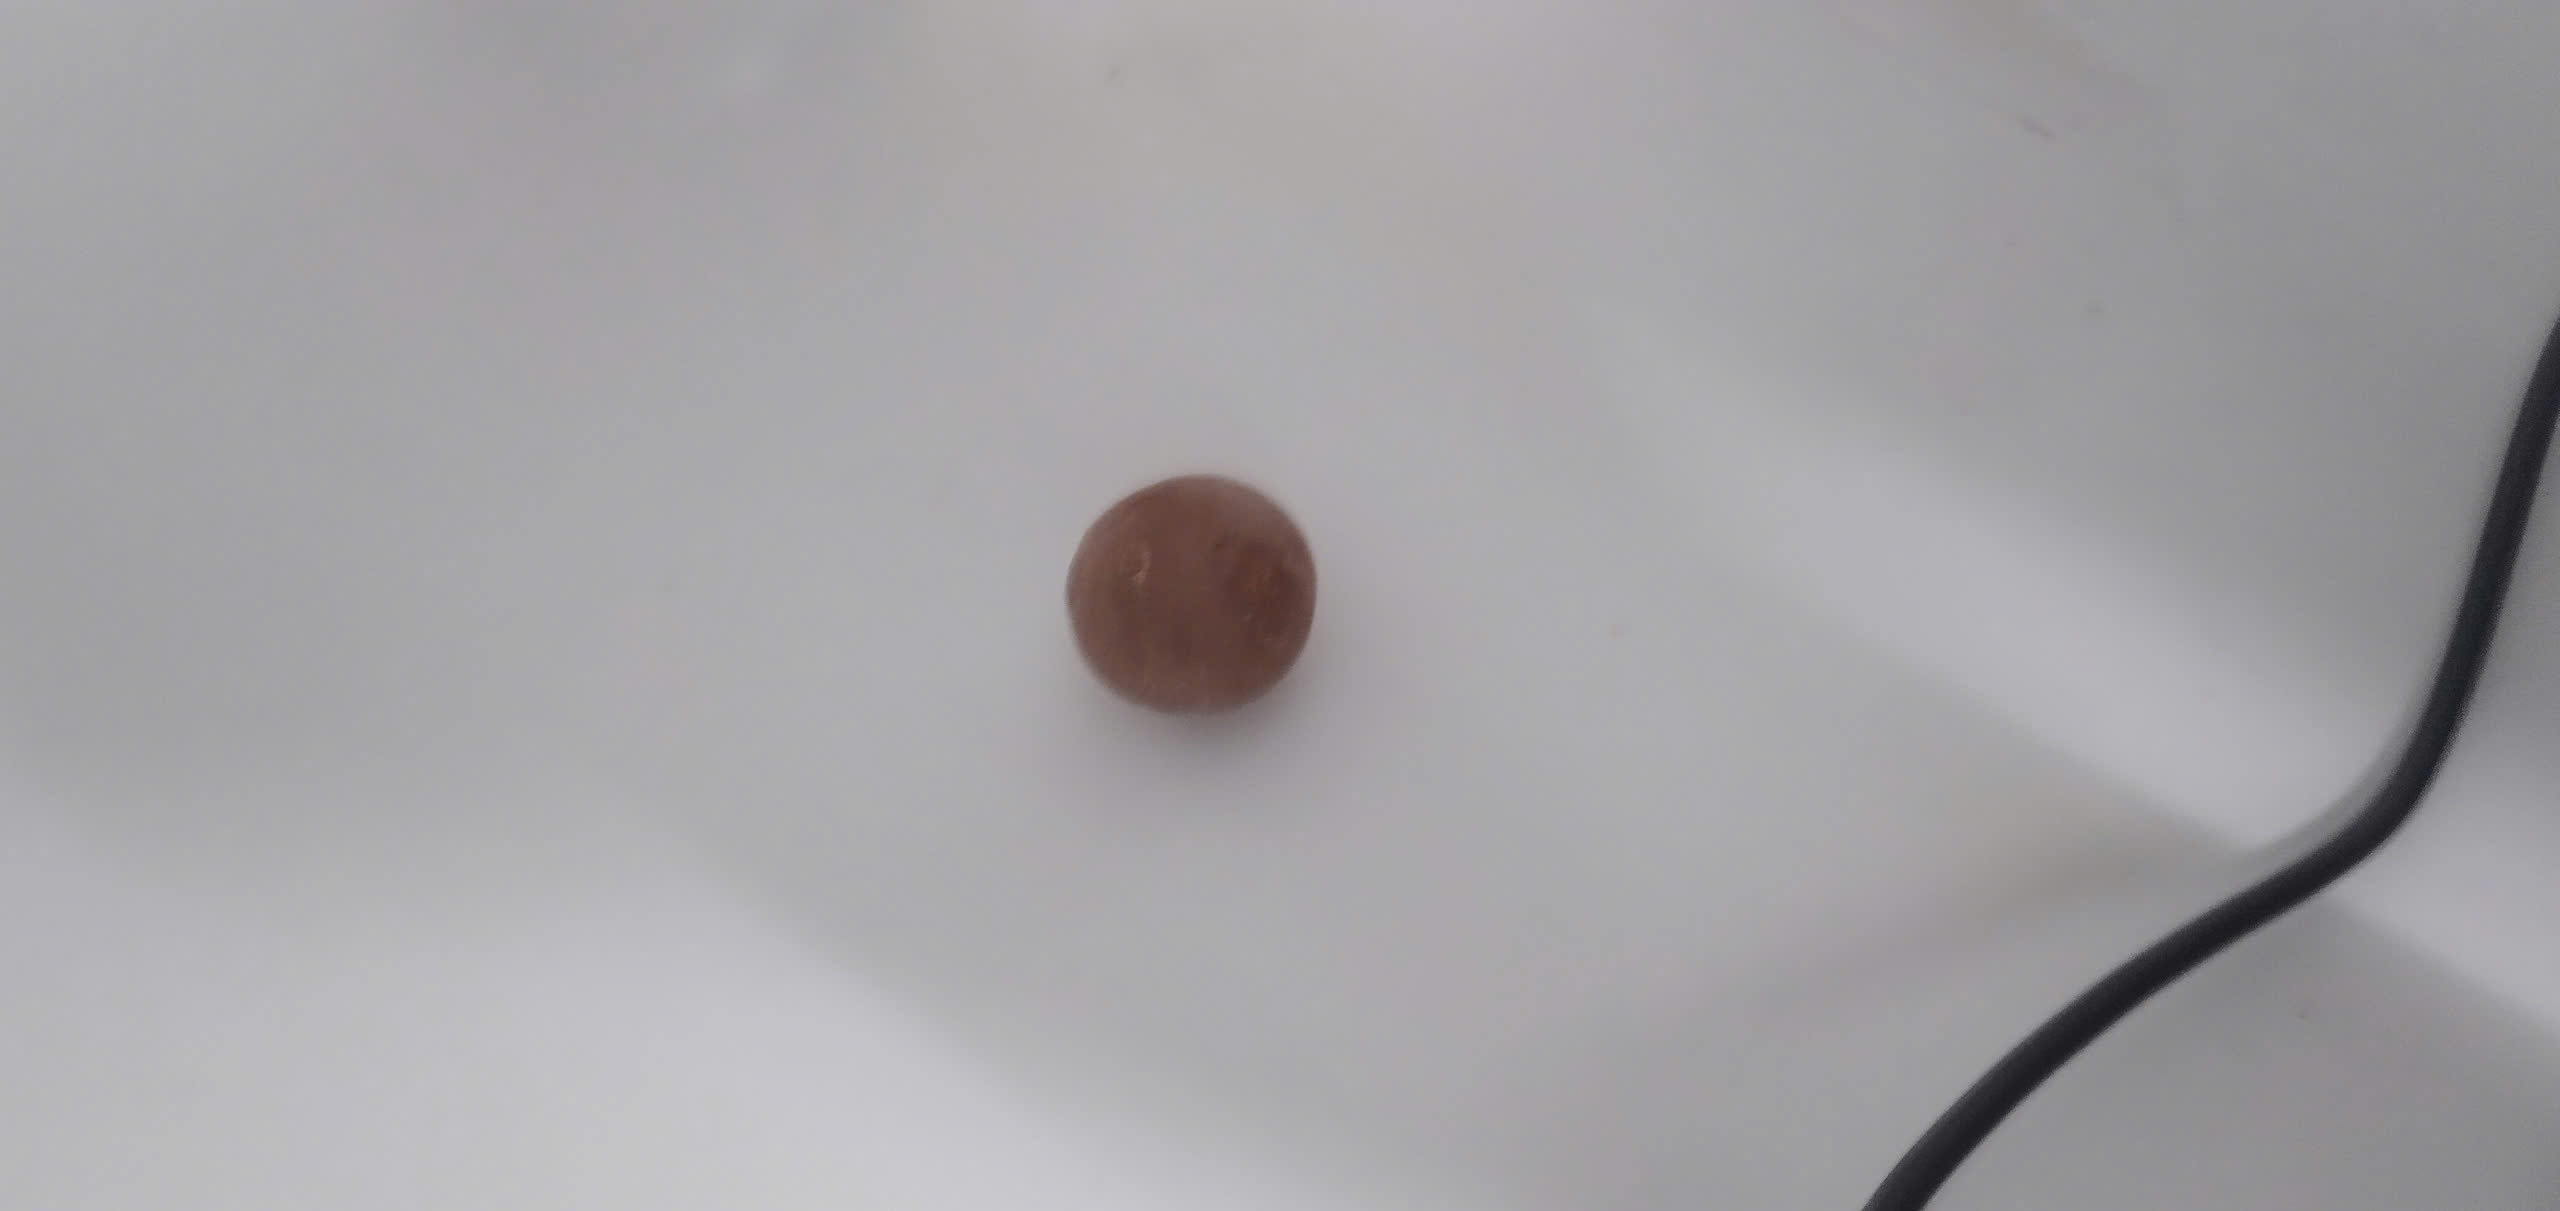mac: (1068, 473, 1321, 718)
